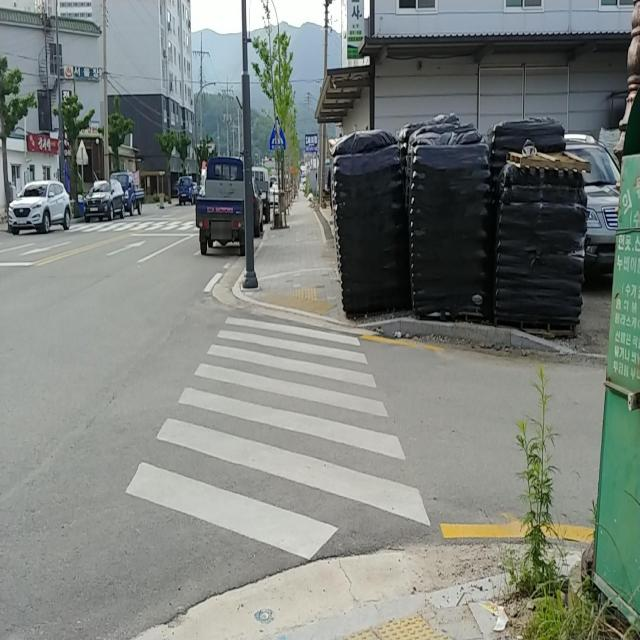횡단보도: (124, 313, 432, 566), (58, 217, 214, 239)
